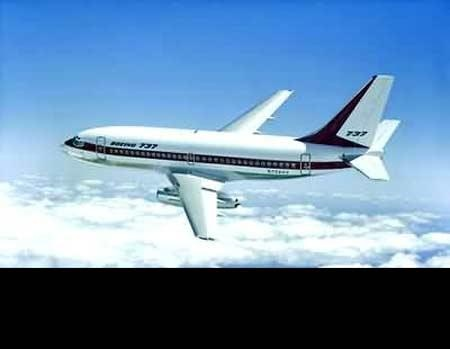airplane: (49, 73, 400, 242)
